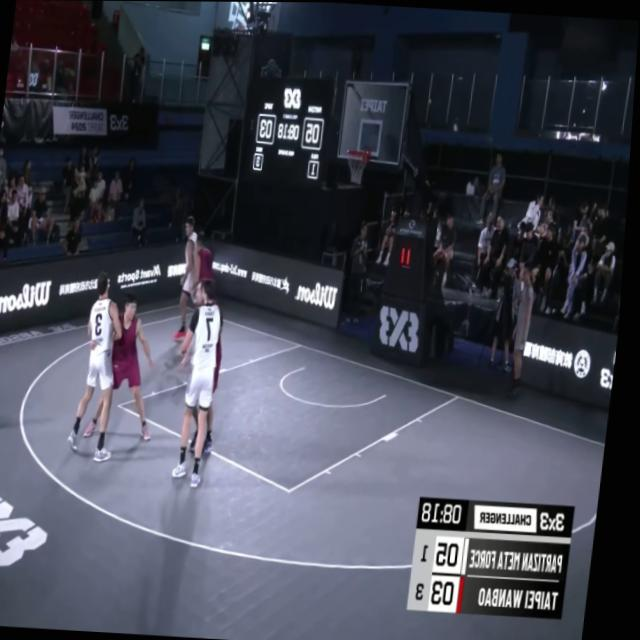hoop: (346, 146, 371, 187)
player: (89, 291, 174, 443), (72, 268, 136, 465), (170, 279, 230, 489), (179, 277, 238, 460), (189, 230, 223, 338)
